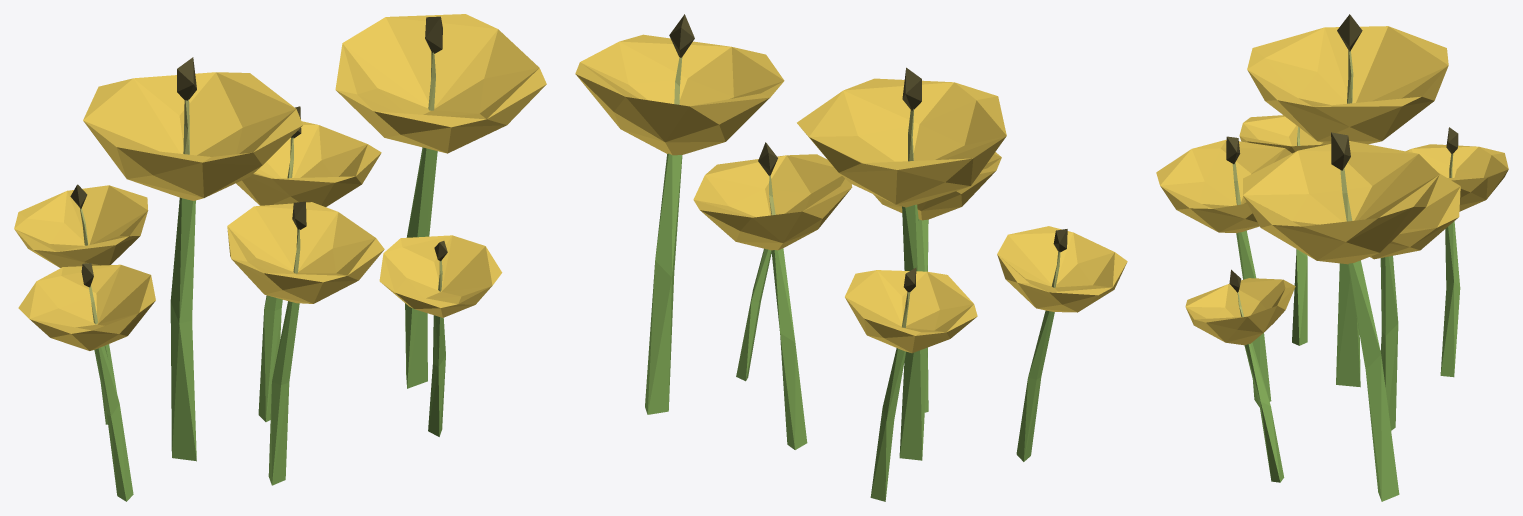
The model's file is flower-06.glb.
3 renders of one model, left to right at view 1: azimuth 30°, elevation 25°; view 2: azimuth 150°, elevation 25°; view 3: azimuth 270°, elevation 25°, orthographic. The views are drawn at different scales.
Parts seen in each view (by area): view 1: Flower2_2; view 2: Flower2_2; view 3: Flower2_2.
Part boxes in pixels (x1,y1,x2,y2): Flower2_2: [14, 14, 546, 501]; Flower2_2: [575, 14, 1127, 501]; Flower2_2: [1156, 14, 1508, 501].
Bounding box in the file's own units: 0.7859 × 0.5894 × 0.5035.
